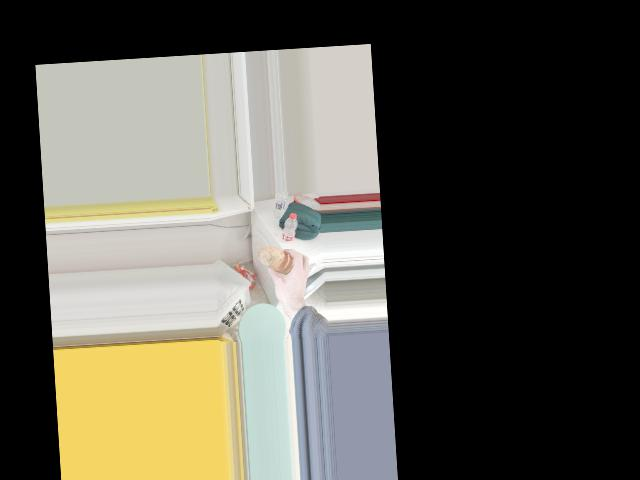sweet_potato: (263, 244, 295, 276)
